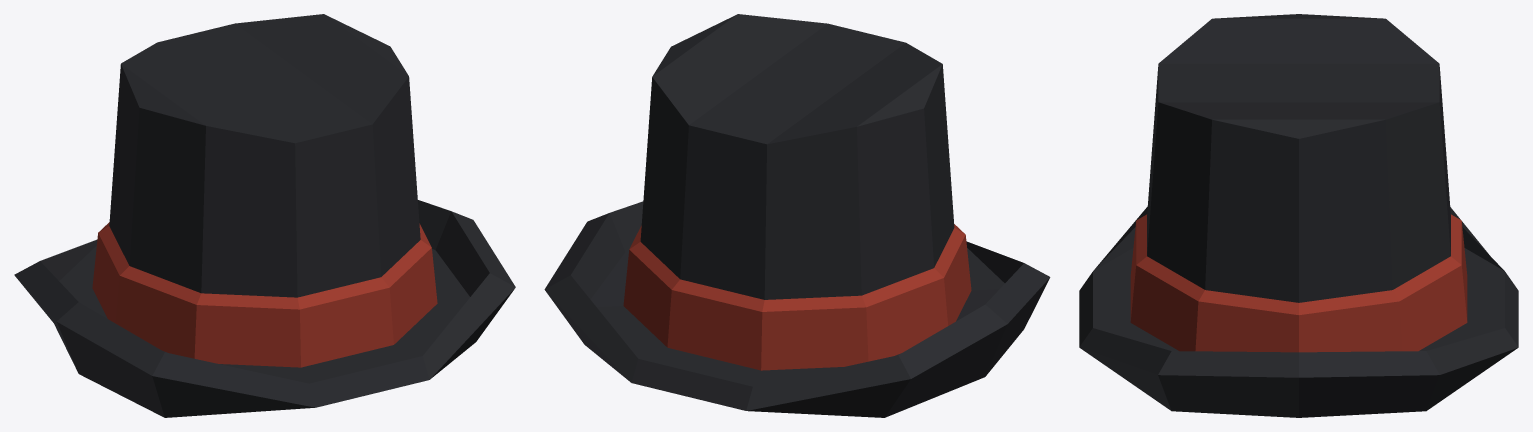
Rendered from hat-tophat.glb.
3 views of the same model, side by side, from view 1: azimuth 30°, elevation 25°; view 2: azimuth 150°, elevation 25°; view 3: azimuth 270°, elevation 25° (orthographic). The views are drawn at different scales.
Visible parts, largest first — view 1: Hat; view 2: Hat; view 3: Hat.
Part boxes in pixels (bbox=[...]): Hat: bbox=[14, 14, 515, 417]; Hat: bbox=[544, 14, 1050, 417]; Hat: bbox=[1079, 14, 1518, 417].
Bounding box in the file's own units: 0.3117 × 0.1877 × 0.279.
Materials: 1 (1 with a texture image).
